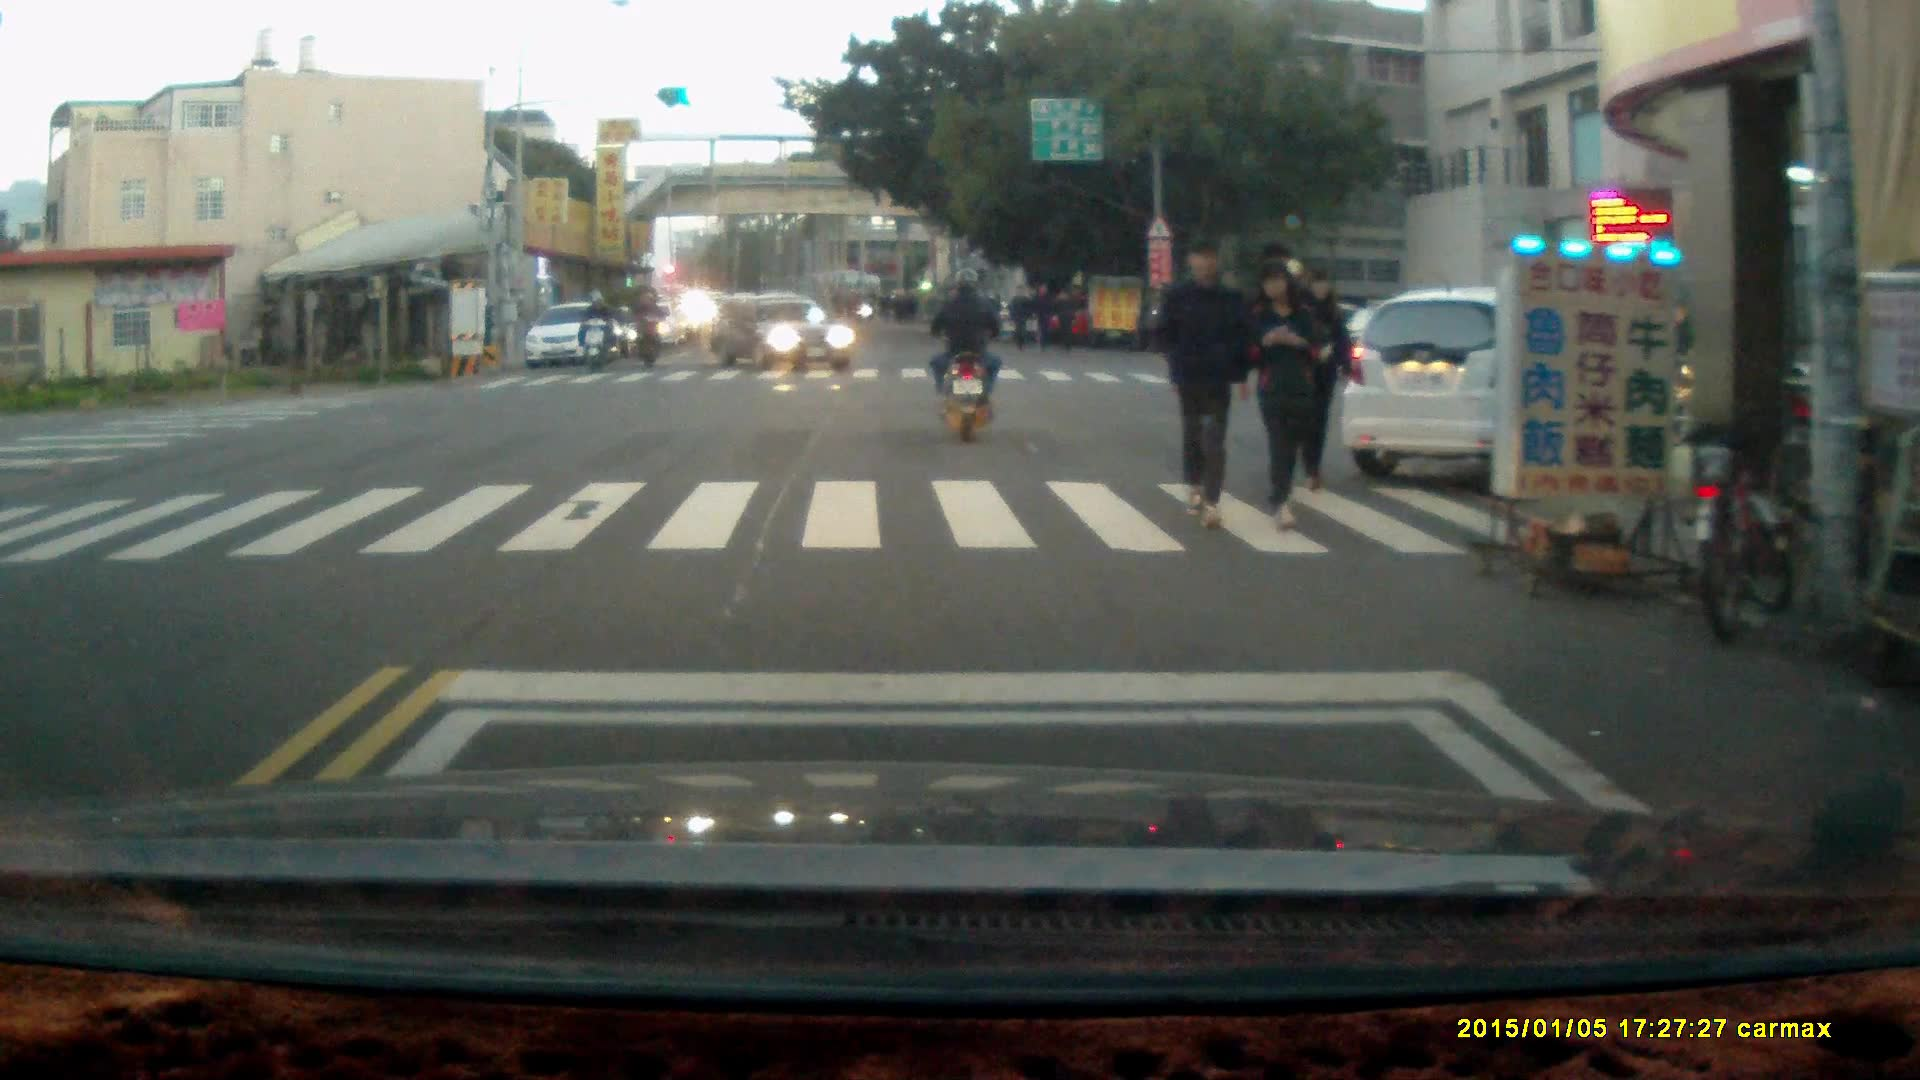pedestrian: (1153, 230, 1251, 527), (1246, 255, 1324, 527), (1665, 299, 1694, 389), (1030, 276, 1056, 353), (1050, 285, 1079, 354), (1008, 280, 1033, 350)
rider: (931, 261, 1001, 443), (631, 283, 670, 369), (579, 284, 614, 368)
vehicle: (1351, 297, 1715, 493), (710, 286, 857, 376), (526, 304, 623, 370)
